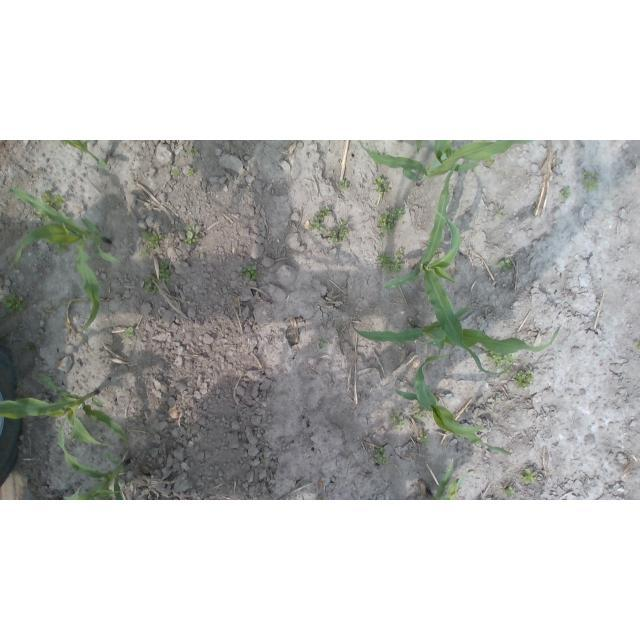Maize: (381, 161, 516, 376), (7, 188, 124, 332), (394, 355, 513, 457), (351, 305, 561, 358), (1, 373, 130, 447), (357, 141, 536, 184), (58, 429, 132, 500), (60, 141, 112, 171), (433, 457, 469, 499)
Weeds: (39, 191, 67, 218), (378, 248, 406, 272), (380, 209, 405, 232), (307, 208, 331, 231), (326, 223, 351, 244), (141, 231, 159, 257), (491, 352, 515, 368), (1, 292, 19, 312), (239, 265, 259, 279), (515, 371, 533, 385), (583, 172, 596, 190), (393, 411, 405, 430), (377, 176, 391, 192), (185, 227, 198, 244), (159, 261, 170, 279), (172, 167, 193, 176), (410, 408, 427, 419), (145, 278, 156, 294), (524, 470, 535, 483), (374, 447, 383, 462), (505, 485, 516, 495), (498, 261, 510, 269), (339, 180, 349, 189), (562, 188, 570, 199), (185, 148, 199, 154), (123, 328, 134, 335), (494, 207, 504, 214), (421, 432, 428, 441), (319, 338, 326, 346), (35, 357, 41, 365), (637, 341, 640, 350)
